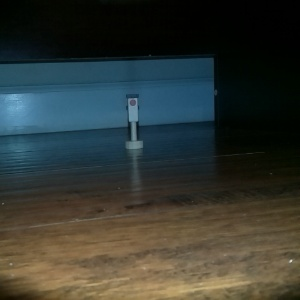traffic light red: (123, 90, 144, 152)
